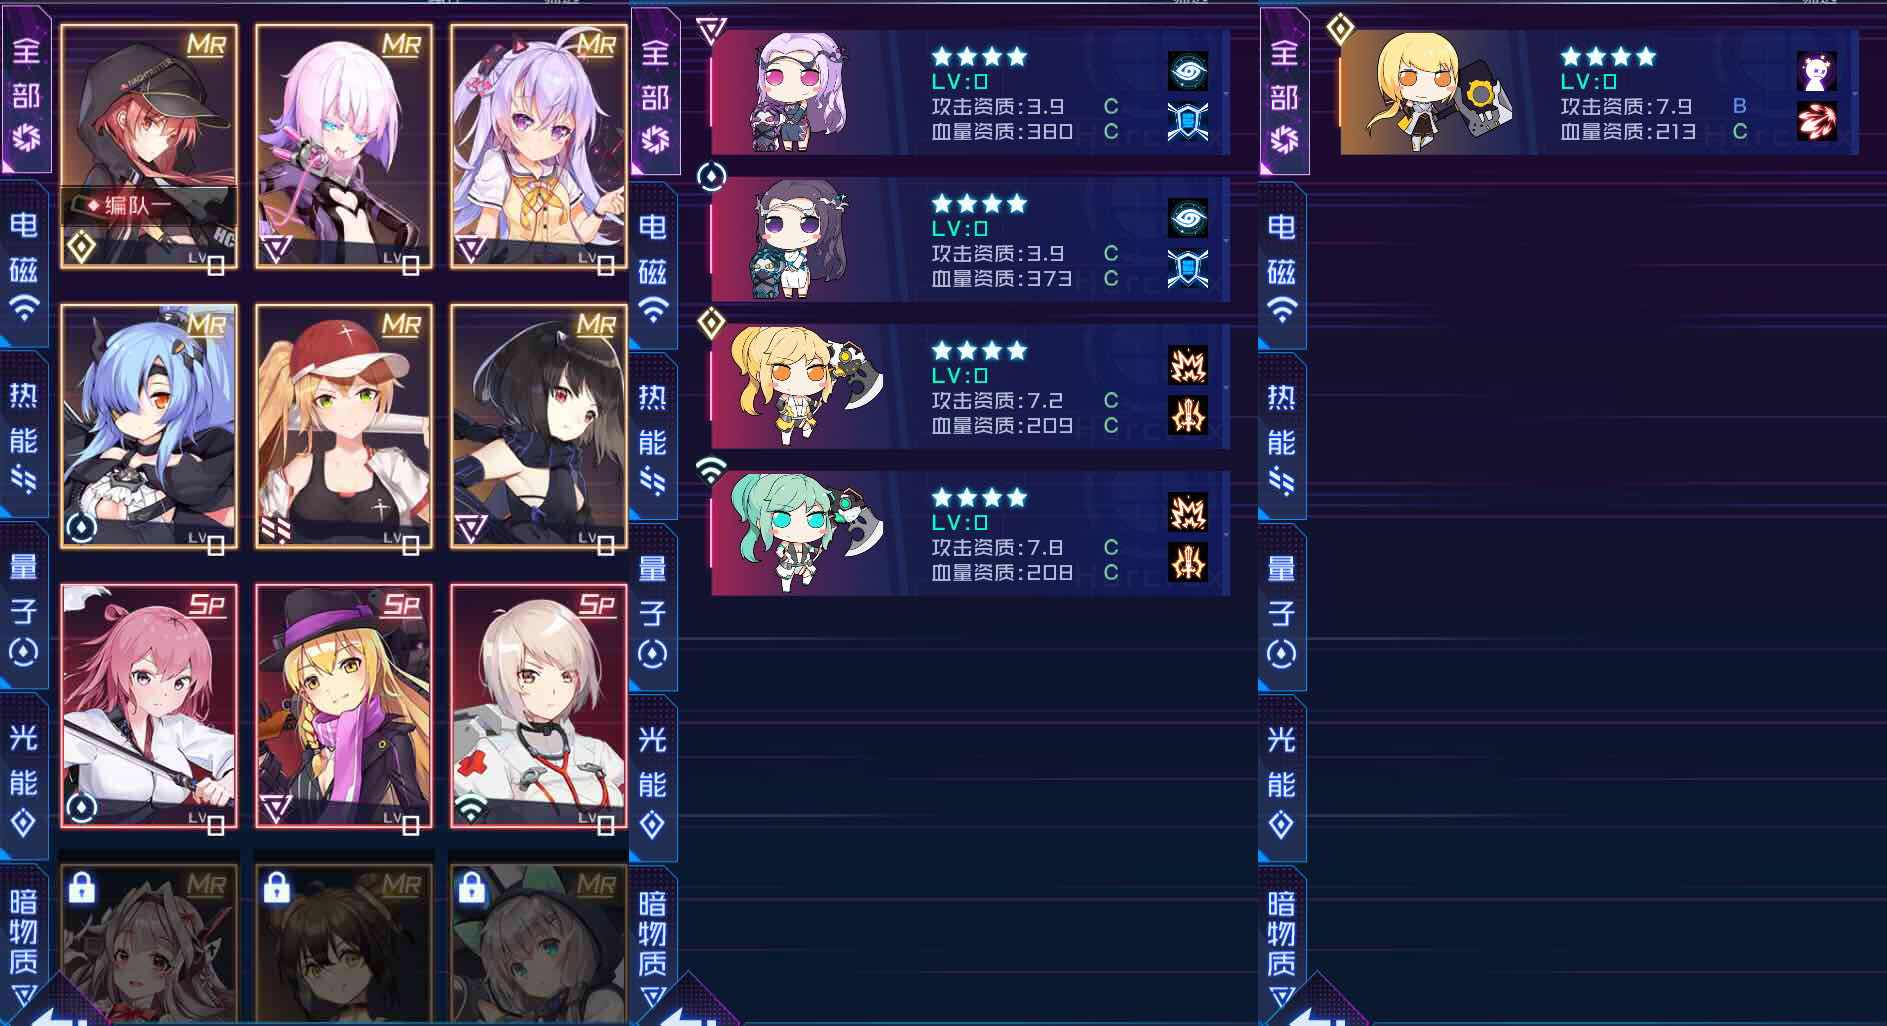sp熏: (54, 572, 245, 752)
